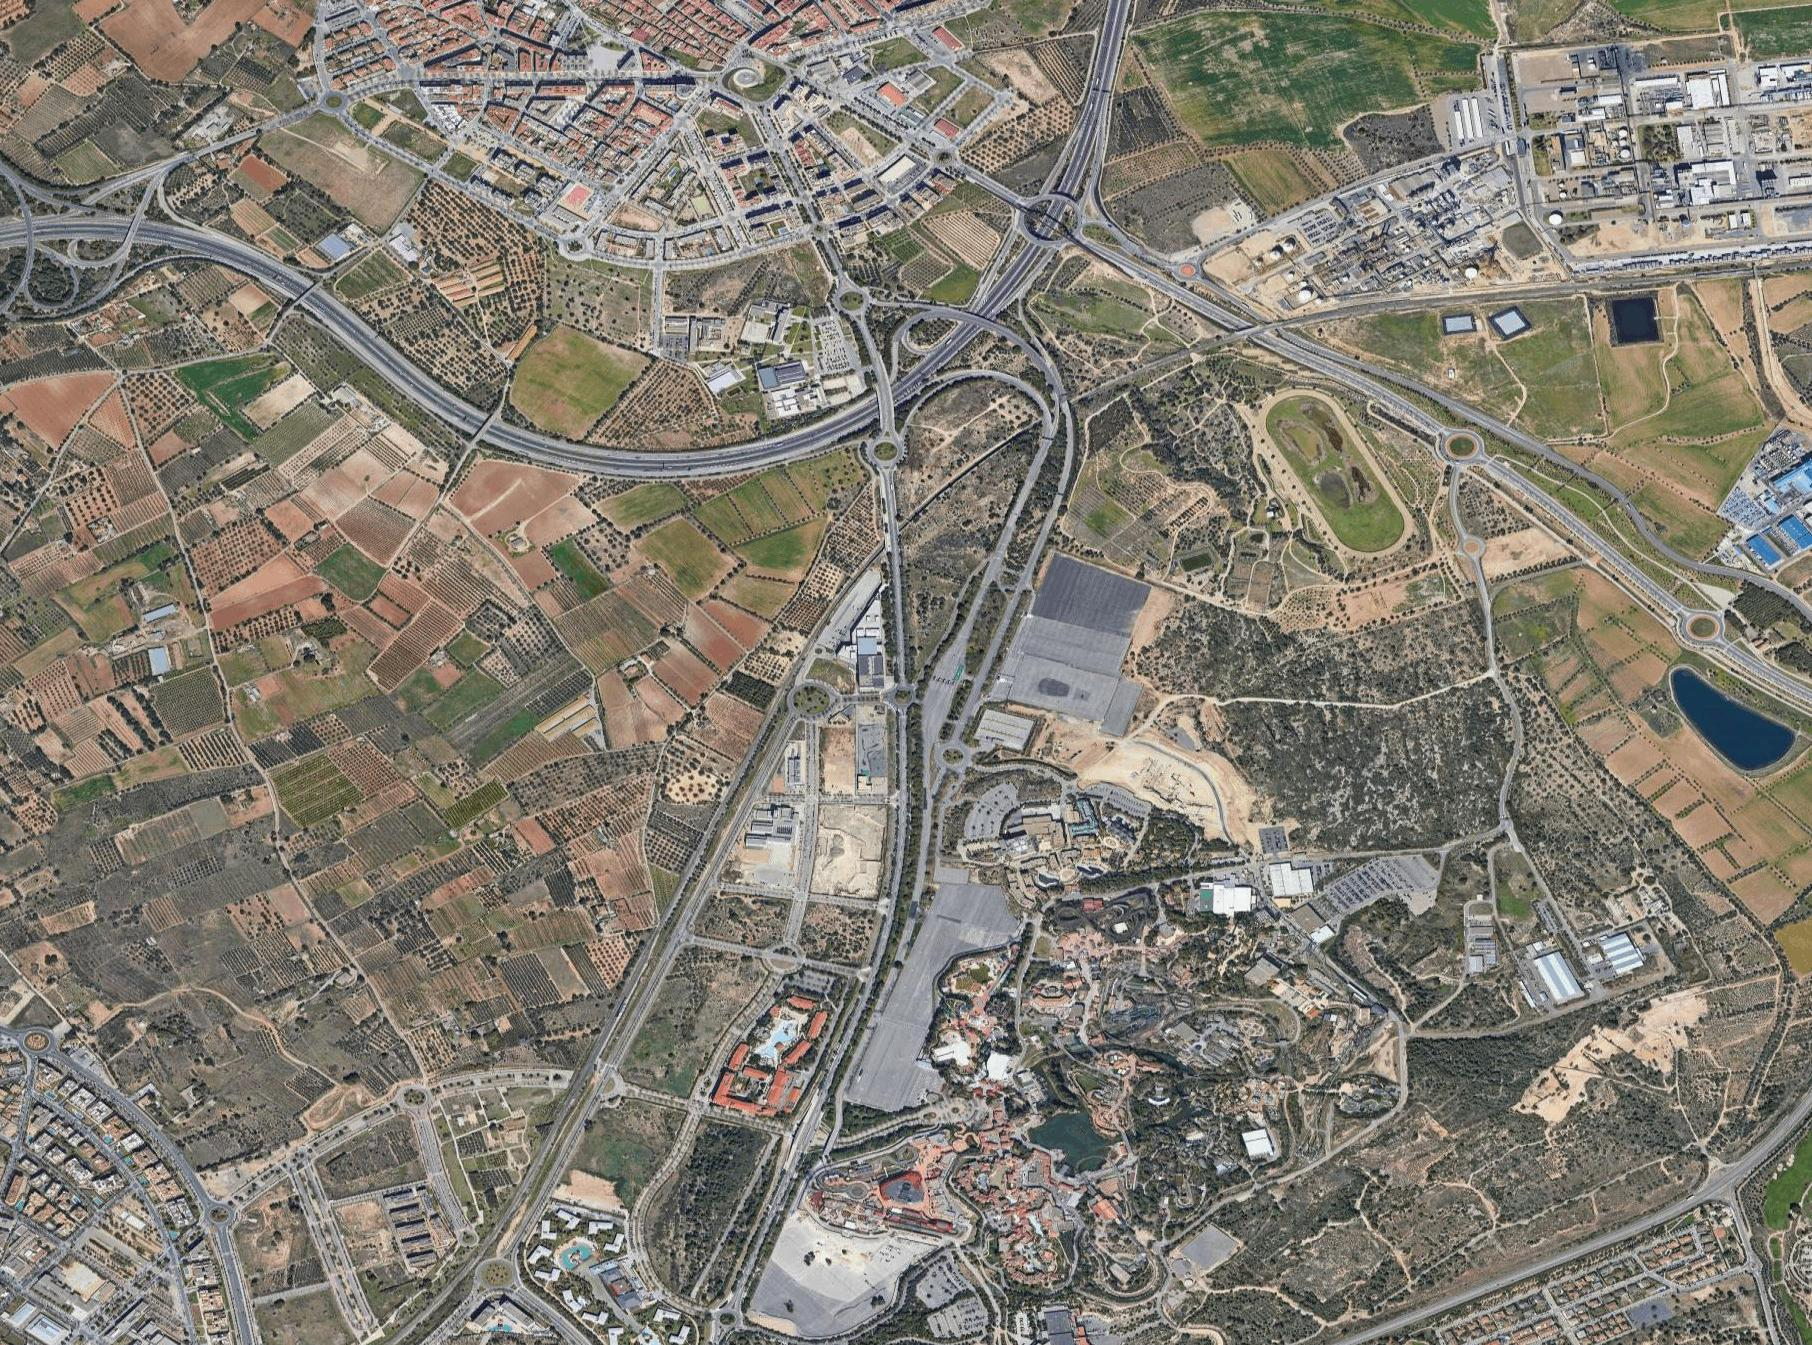motorway: (1, 168, 424, 434), (432, 326, 982, 524), (1185, 273, 1538, 497), (1467, 499, 1812, 728), (965, 4, 1191, 340), (1522, 1055, 1811, 1291), (698, 1110, 823, 1345), (795, 893, 921, 1127), (469, 1106, 588, 1298), (578, 899, 679, 1110), (686, 687, 787, 900), (874, 523, 924, 923), (1343, 1262, 1524, 1338)
